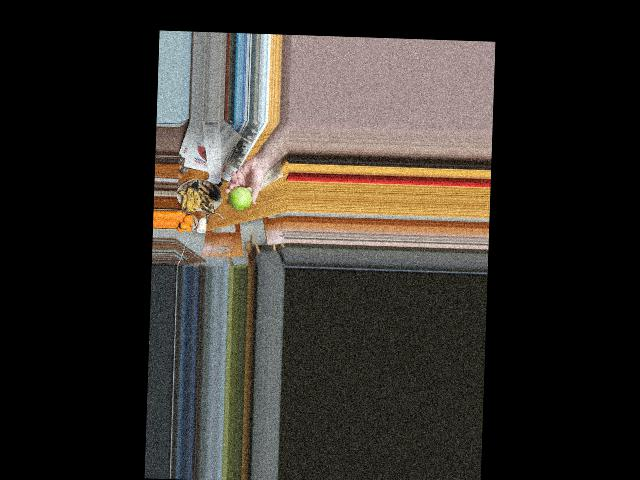apple: (227, 184, 252, 209)
